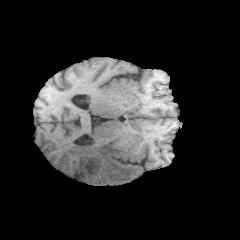glioma: (64, 138, 140, 182)
